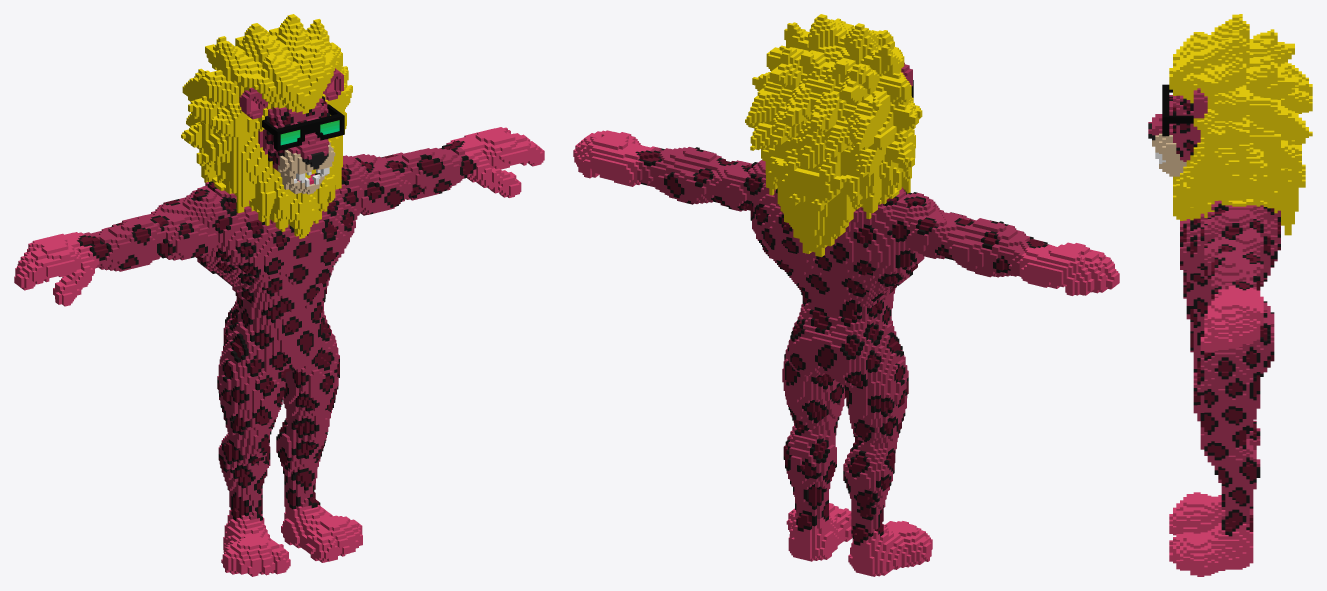
Rendered from 599-BzU5HQeG.glb.
3 renders of one model, left to right at view 1: azimuth 30°, elevation 25°; view 2: azimuth 150°, elevation 25°; view 3: azimuth 270°, elevation 25°, orthographic. The views are drawn at different scales.
Parts seen in each view (by area): view 1: open; view 2: open; view 3: open.
Boxes of the visible parts, x1,y1,x2,y2 form: open: [14, 14, 544, 576]; open: [573, 14, 1119, 576]; open: [1148, 14, 1312, 576].
Size of the model in its own units: 17.2 by 16.5 by 4.7.
4 materials, 4 textured.
